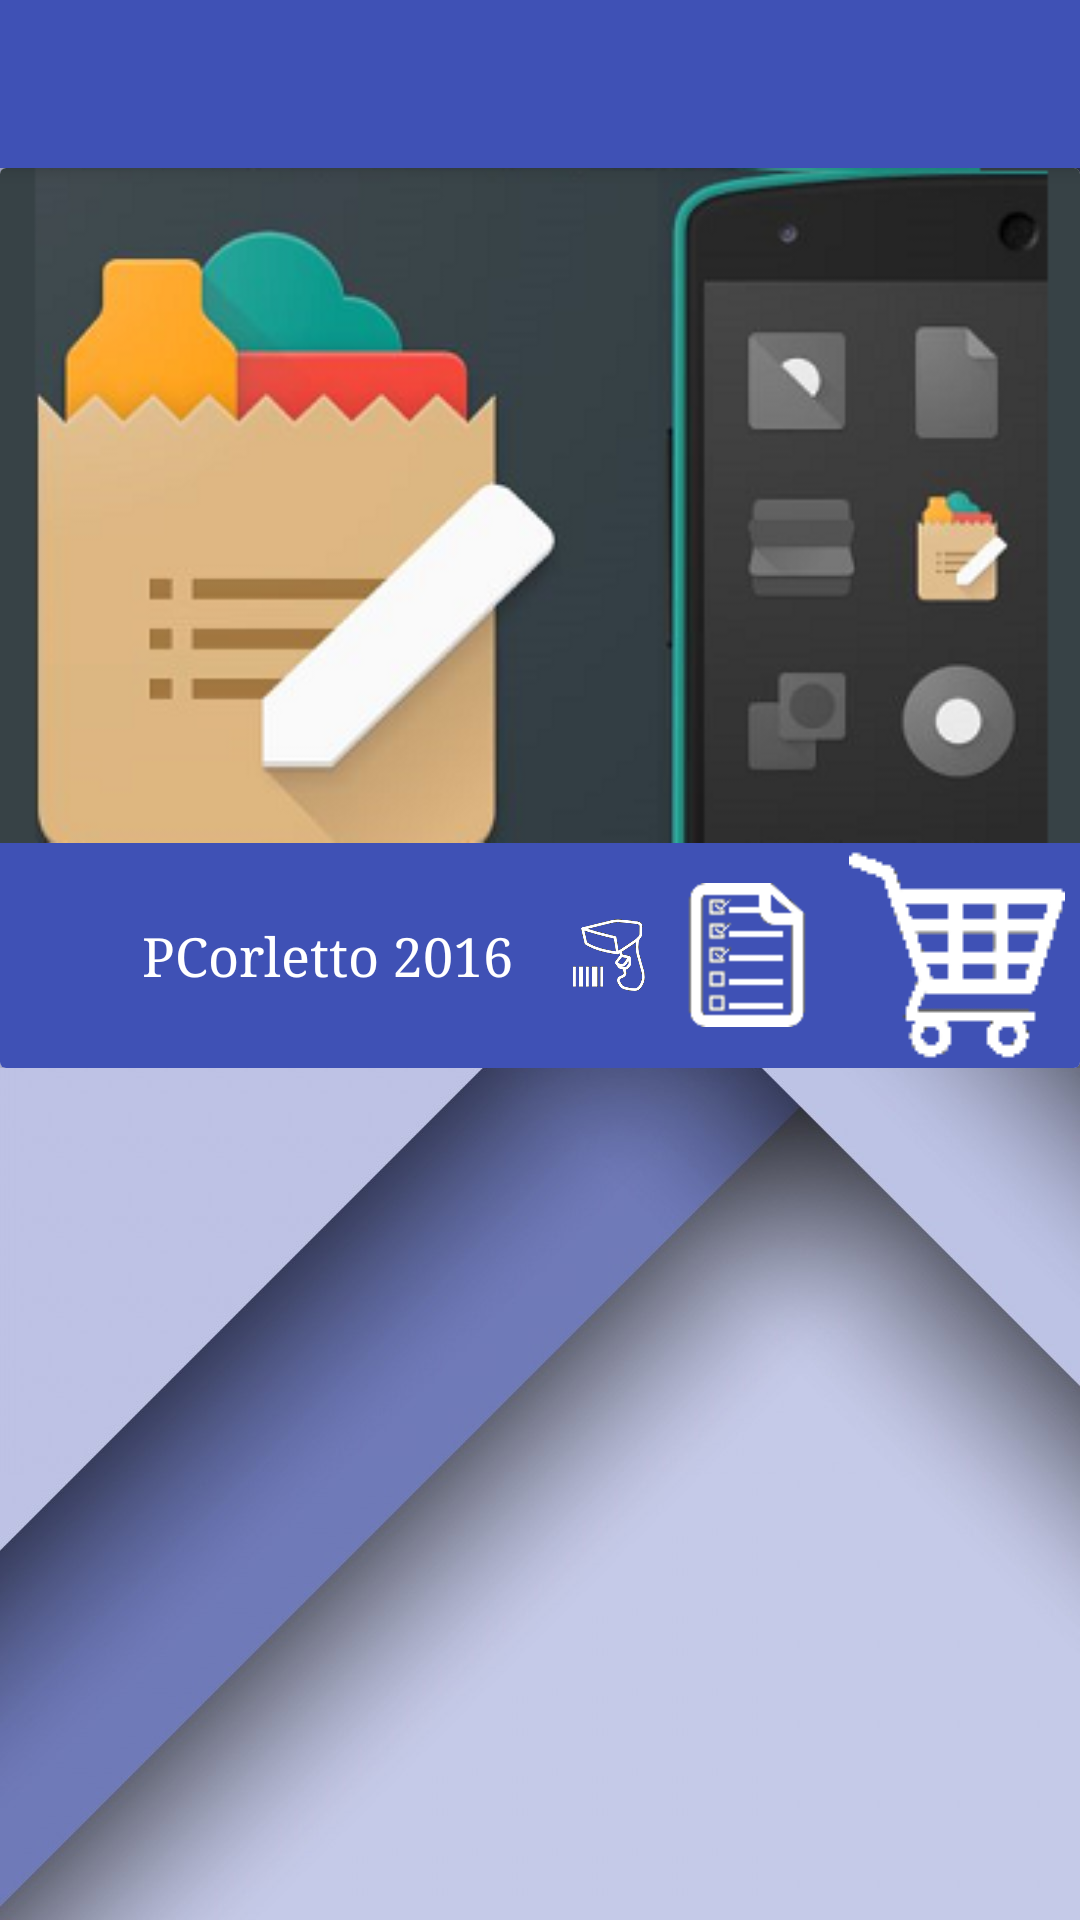

Icon click points for this 1080×1920 phone screenshot, format [x,y]:
cart: [957,955]
list: [747,955]
scan: [609,955]
